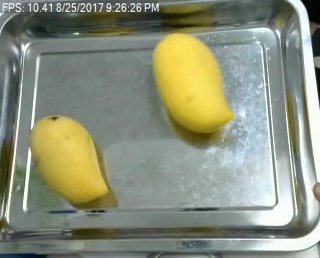Mango: (150, 30, 234, 136), (26, 113, 111, 204)
